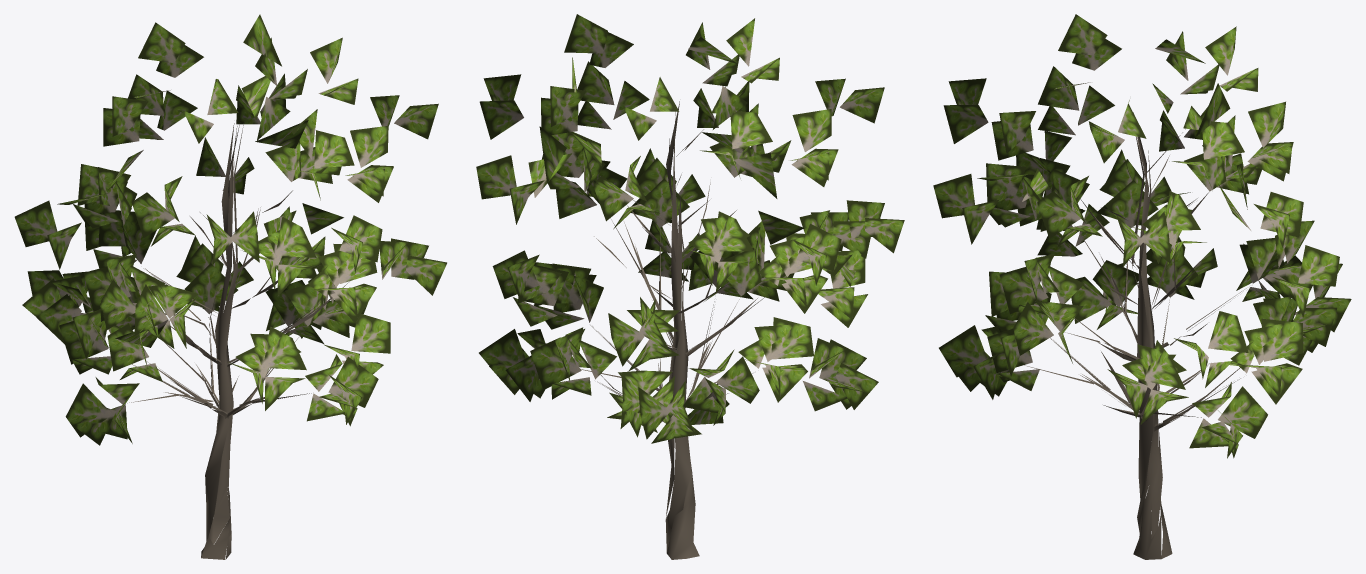
The model's file is hetre_feuilles_l1.glb.
3 views of the same model, side by side, from view 1: azimuth 30°, elevation 25°; view 2: azimuth 150°, elevation 25°; view 3: azimuth 270°, elevation 25° (orthographic). The views are drawn at different scales.
Visible parts, largest first — view 1: Tree_1, Tree_0; view 2: Tree_1, Tree_0; view 3: Tree_1, Tree_0.
Boxes of the visible parts, box(x1,y1,x2,y2) form: Tree_1: box(14, 14, 446, 445); Tree_0: box(127, 120, 349, 559); Tree_1: box(476, 14, 904, 443); Tree_0: box(581, 101, 770, 559); Tree_1: box(933, 14, 1351, 458); Tree_0: box(1024, 112, 1254, 559).
Bounding box in the file's own units: 28.95 × 36.95 × 26.8.
Materials: 2 (1 with a texture image).
